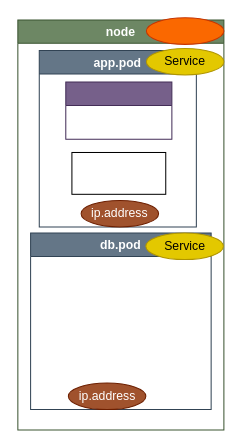
This 242x448 diagram has some shape labels left out. Each missing label, with the centre of its shape:
container: the point at 118,110
Ingress: the point at 184,30
Sidecar/ monitoring: the point at 118,172
